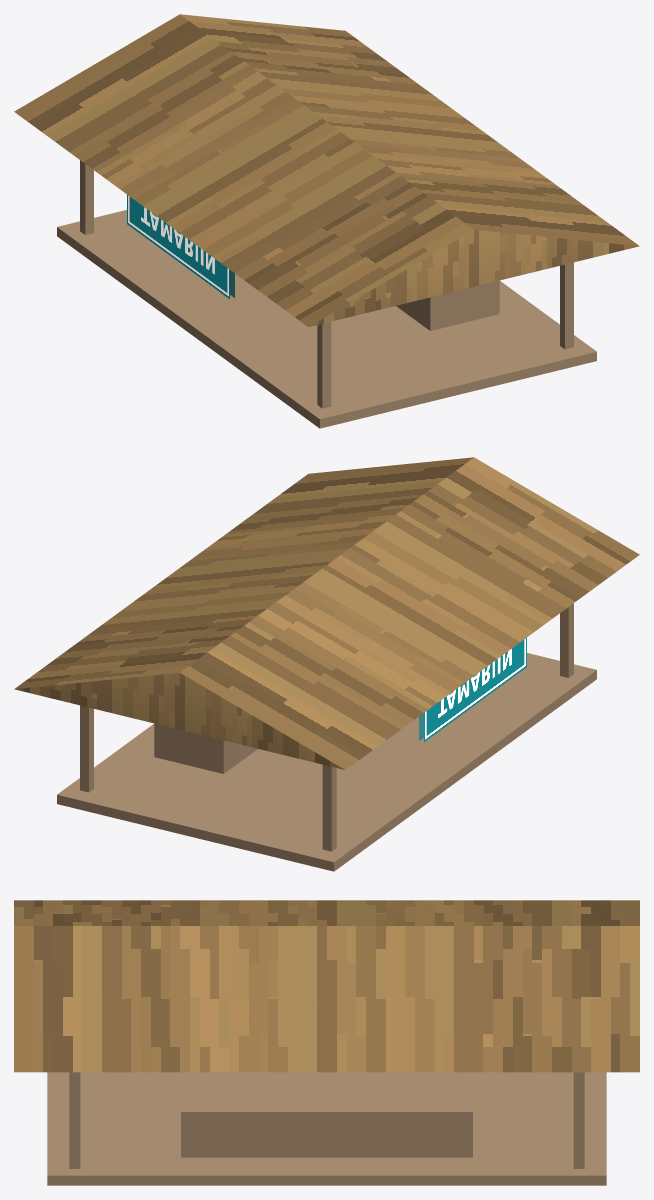
The model's file is tamarijn_bar.glb.
3 renders of one model, top to bottom at view 1: azimuth 30°, elevation 25°; view 2: azimuth 150°, elevation 25°; view 3: azimuth 270°, elevation 25°, orthographic. The views are drawn at different scales.
Visible parts, largest first — view 1: tamarijn_bar_lod0; view 2: tamarijn_bar_lod0; view 3: tamarijn_bar_lod0.
Part boxes in pixels (box(x1,y1,x2,y2)): tamarijn_bar_lod0: box(14, 14, 639, 428); tamarijn_bar_lod0: box(14, 457, 639, 871); tamarijn_bar_lod0: box(14, 900, 639, 1185).
Size of what is drawn, in the model's own units: 6.7 by 3.45 by 10.3.
Materials: 4 (2 with a texture image).
